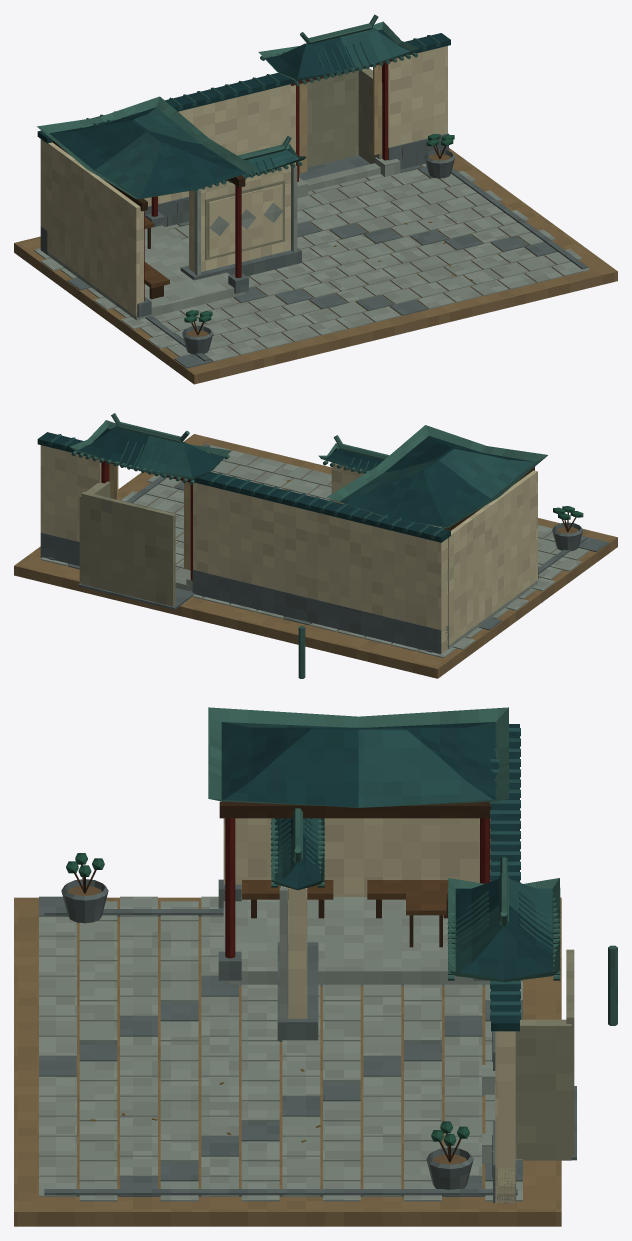
The model's file is rongfu-waiting.glb.
The picture shows the model from 3 angles, top to bottom: view 1: azimuth 30°, elevation 25°; view 2: azimuth 150°, elevation 25°; view 3: azimuth 270°, elevation 25°; orthographic projection. The views are drawn at different scales.
Parts seen in each view (by area): view 1: Ground, Waiting_hall_roof, Hall_side_wall, Boundary_wall, Boundary_wall.001, Hall_platform, Inner_gate_eave, Inner_shadow, Screen_inset, Screen_wall, Wall_cap, Inner_turn_wall (+16 smaller); view 2: Boundary_wall, Ground, Waiting_hall_roof, Hall_side_wall, Inner_shadow, Wall_stone_dado, Inner_gate_eave, Boundary_wall.001, Wall_cap, Wall_stone_dado.001, Screen_cap, Stone_planter.001 (+8 smaller); view 3: Ground, Waiting_hall_roof, Hall_platform, Hall_side_wall, Inner_gate_eave, Inner_turn_wall, Eave_beam.001, Boundary_wall.001, Drain.001, Screen_wall, Screen_cap, Wall_cap (+118 smaller).
Part boxes in pixels (x1,y1,x2,y2): Ground: (14, 148, 617, 384); Waiting_hall_roof: (37, 96, 258, 199); Hall_side_wall: (47, 142, 143, 316); Boundary_wall: (40, 84, 295, 230); Boundary_wall.001: (388, 46, 447, 147); Hall_platform: (47, 225, 244, 320); Inner_gate_eave: (258, 21, 419, 81); Inner_shadow: (307, 70, 358, 167); Screen_inset: (208, 184, 282, 257); Screen_wall: (189, 164, 290, 272); Wall_cap: (37, 72, 298, 143); Inner_turn_wall: (358, 68, 382, 163); Boundary_wall: (193, 482, 447, 653); Ground: (14, 434, 617, 678); Waiting_hall_roof: (326, 425, 547, 527); Hall_side_wall: (448, 470, 537, 644); Inner_shadow: (81, 491, 175, 606); Wall_stone_dado: (192, 570, 448, 654); Inner_gate_eave: (70, 420, 230, 479); Boundary_wall.001: (40, 445, 101, 541); Wall_cap: (190, 472, 450, 542); Wall_stone_dado.001: (40, 532, 79, 565); Screen_cap: (318, 443, 383, 472); Stone_planter.001: (552, 522, 582, 551); Ground: (14, 897, 561, 1226); Waiting_hall_roof: (208, 707, 508, 807); Hall_platform: (223, 897, 490, 986); Hall_side_wall: (223, 818, 490, 896); Inner_gate_eave: (448, 878, 559, 981); Inner_turn_wall: (515, 1019, 571, 1160); Eave_beam.001: (219, 801, 490, 818); Boundary_wall.001: (495, 1031, 515, 1203); Drain.001: (44, 1189, 517, 1196); Screen_wall: (288, 888, 307, 1018); Screen_cap: (271, 818, 324, 890); Wall_cap: (491, 724, 519, 882).
Bounding box in the file's own units: 11 × 4.55 × 8.94.
16 materials, 16 textured.
